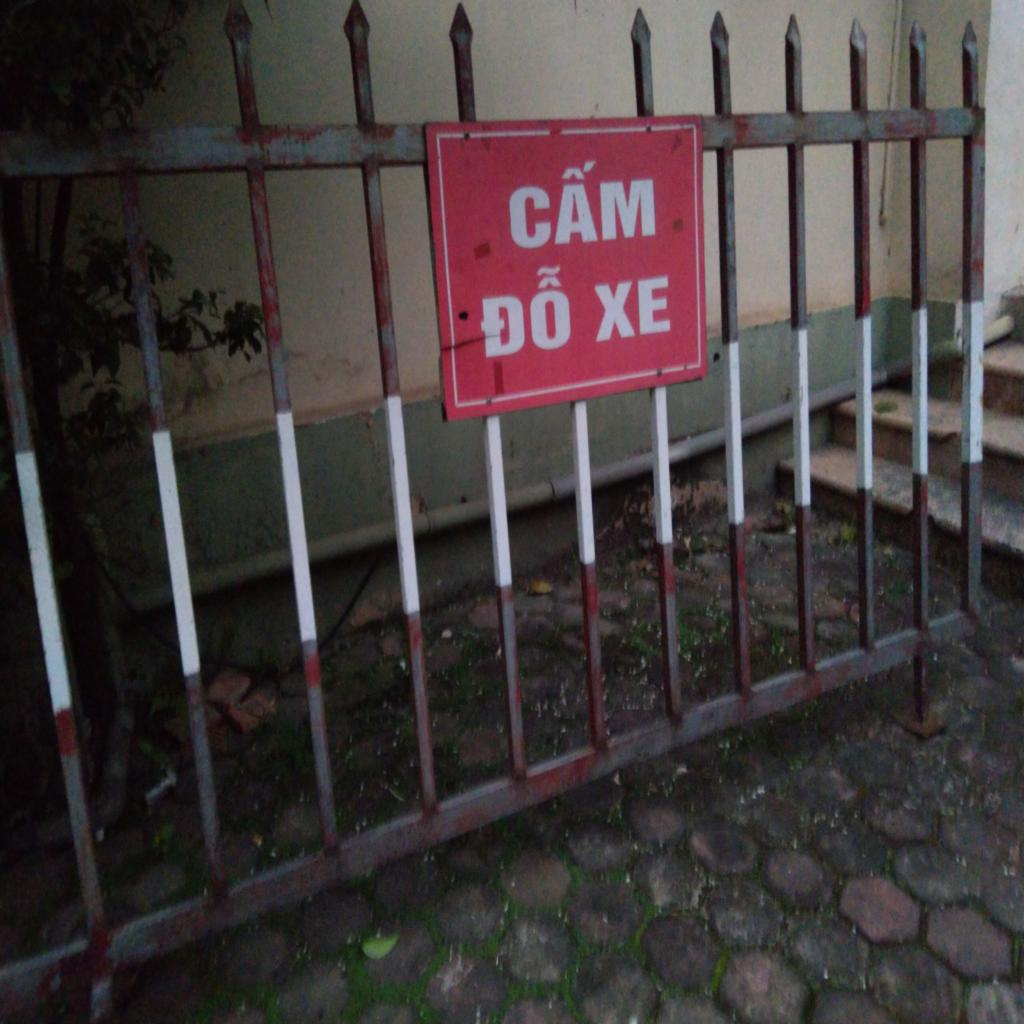text: (505, 155, 665, 261), (466, 262, 581, 370)
